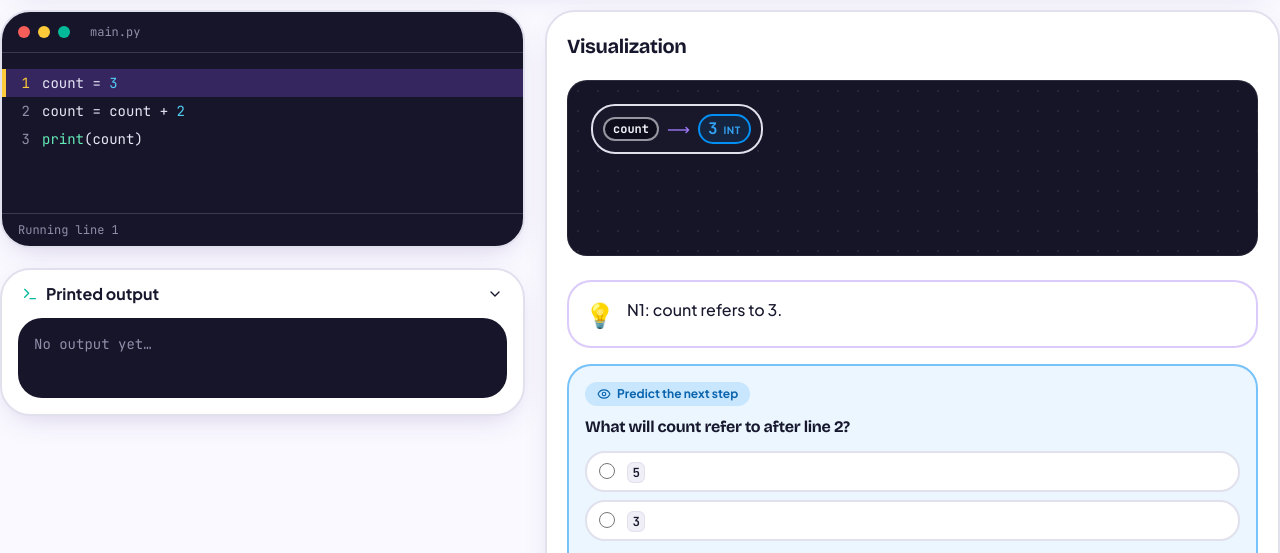
Scenario: predictions inside a walkthrough › gives feedback on a wrong prediction and keeps the step hidden
Click the radio button labelled "3" at (607, 520), box left=599, top=512, right=615, bottom=528
(page scrolled)
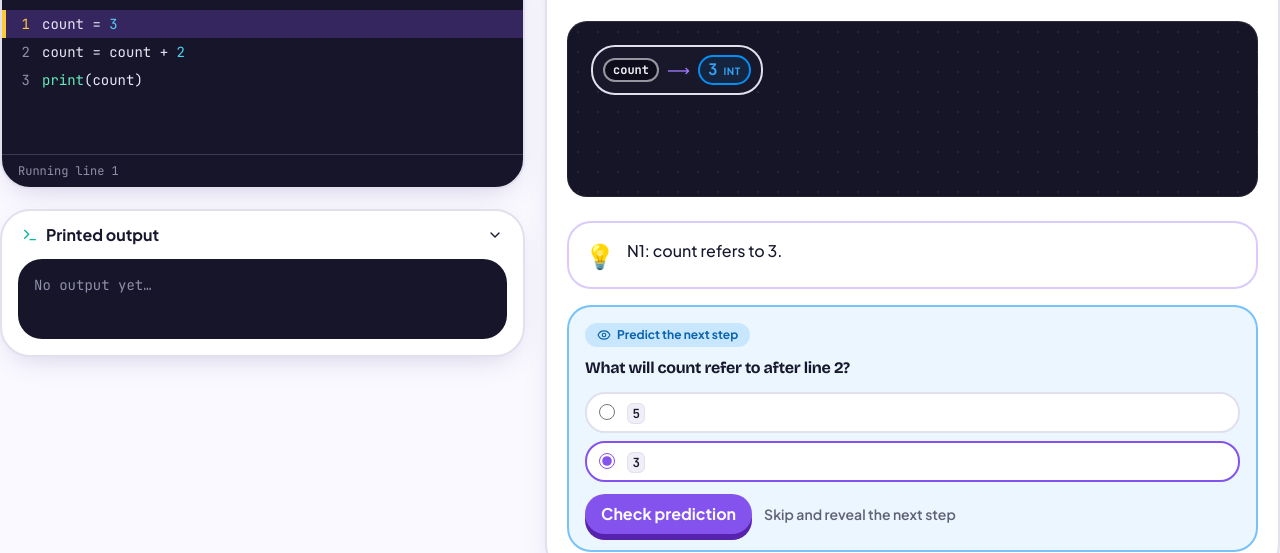
Click the button "Check prediction" at (669, 514), box left=585, top=494, right=752, bottom=534
(page scrolled)
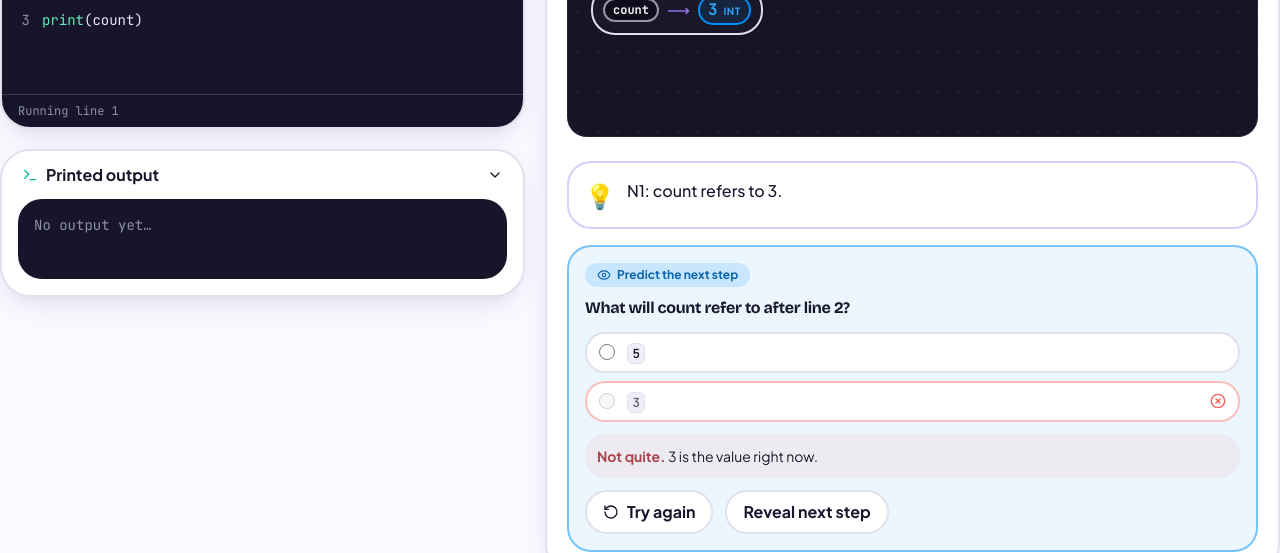
Check: the text "3 + 2 is 5." is not shown
Check: the text "3 is the value right now." is shown, box left=668, top=447, right=818, bottom=465
Click the button "Try again" at (649, 512), box left=585, top=490, right=713, bottom=534
(page scrolled)
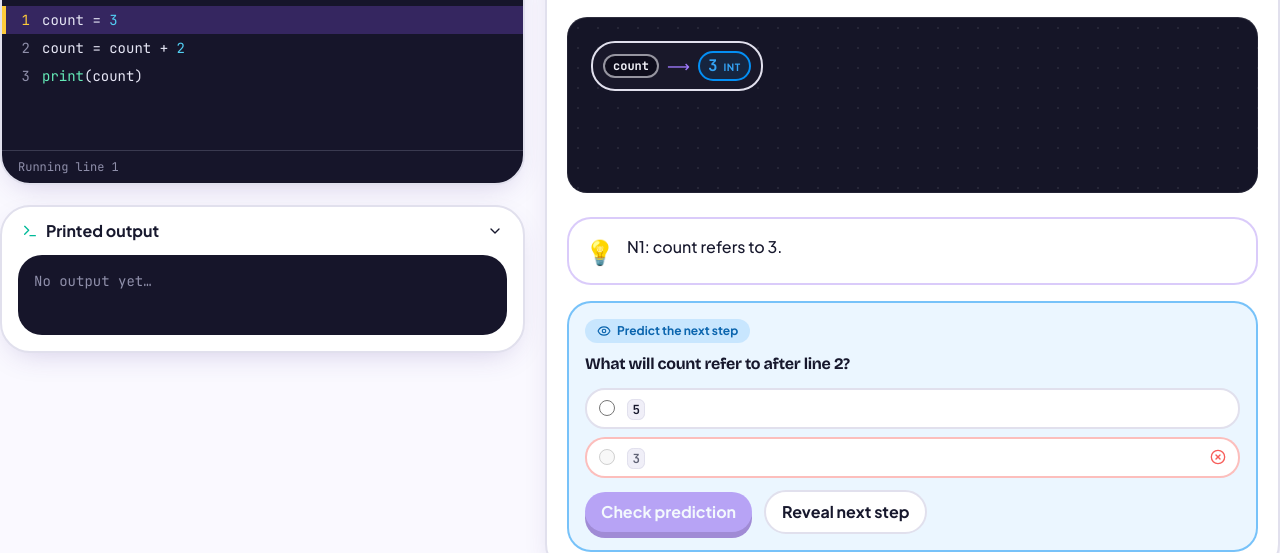
Check: the radio button labelled "3" is disabled, box left=599, top=450, right=615, bottom=466
Click the radio button labelled "5" at (607, 408), box left=599, top=400, right=615, bottom=416
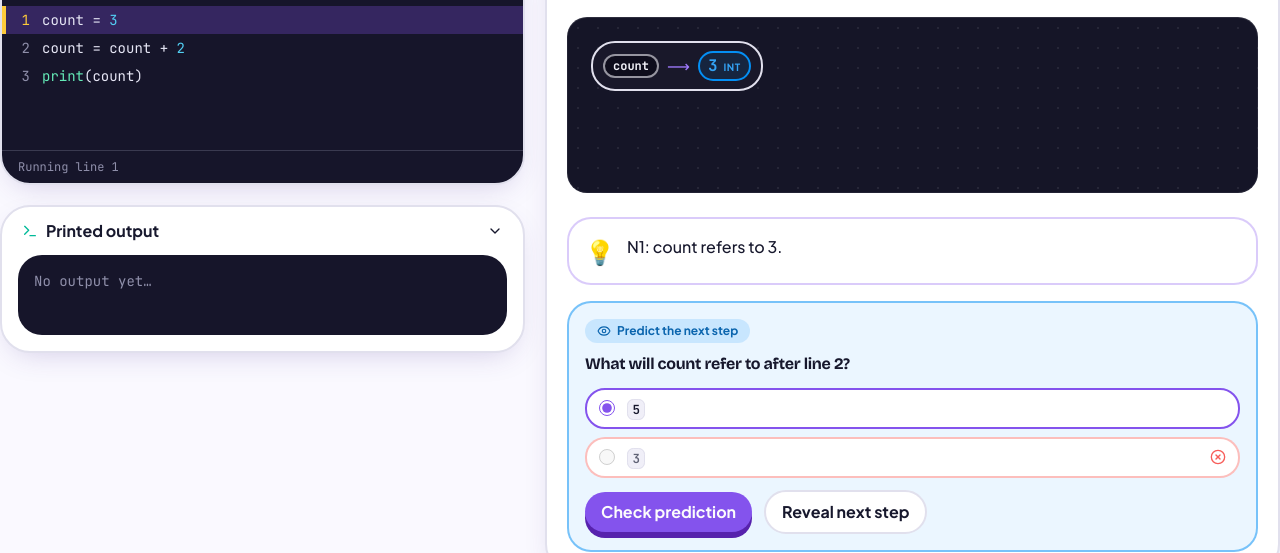
Click the button "Check prediction" at (669, 512), box left=585, top=492, right=752, bottom=532
(page scrolled)
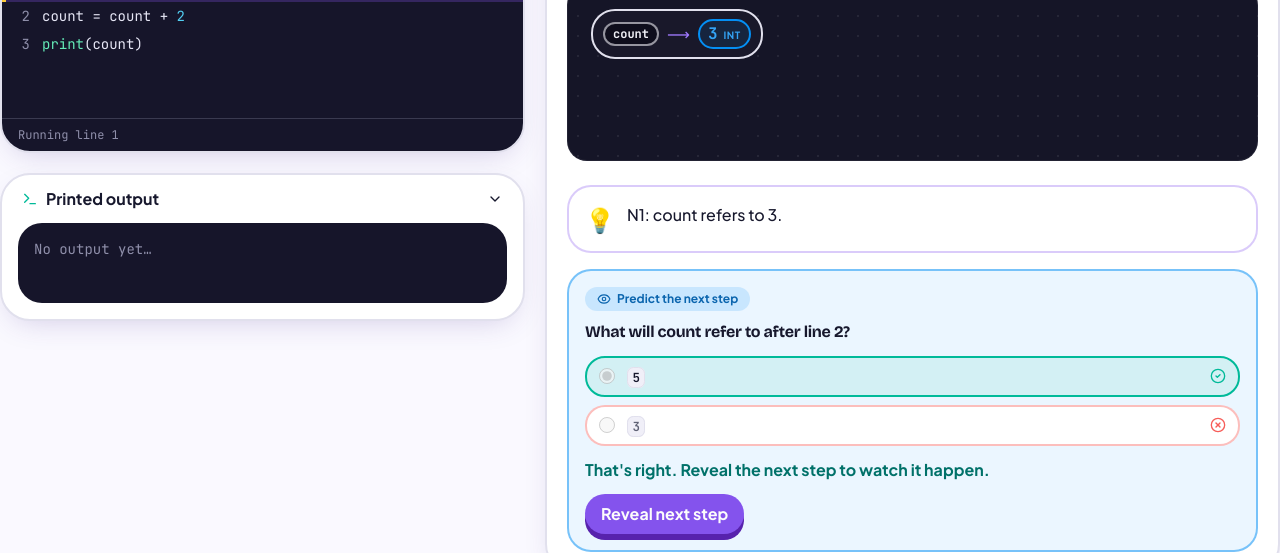
Check: the text "That's right. Reveal the next step to watch it happen." is shown, box left=585, top=459, right=990, bottom=480
Click the button "Reveal next step" at (665, 514), box left=585, top=494, right=744, bottom=534
(page scrolled)
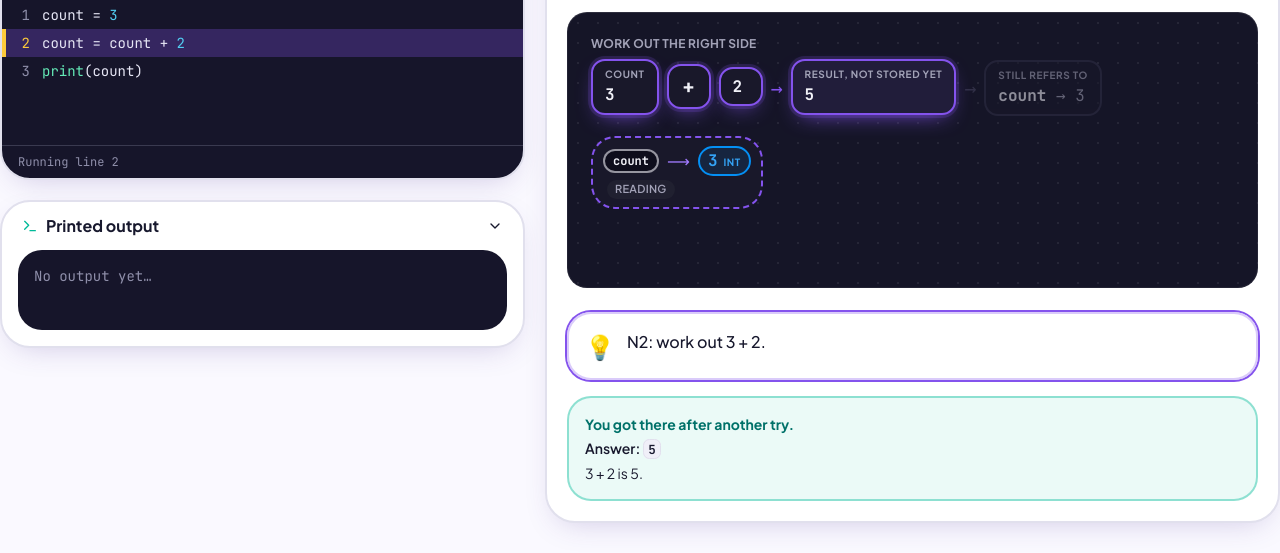
Check: the text "N2: work out 3 + 2." is shown, box left=627, top=330, right=766, bottom=354
Check: the text "You got there after another try." is shown, box left=585, top=415, right=794, bottom=433
Check: the text "3 + 2 is 5." is shown, box left=585, top=464, right=643, bottom=482
